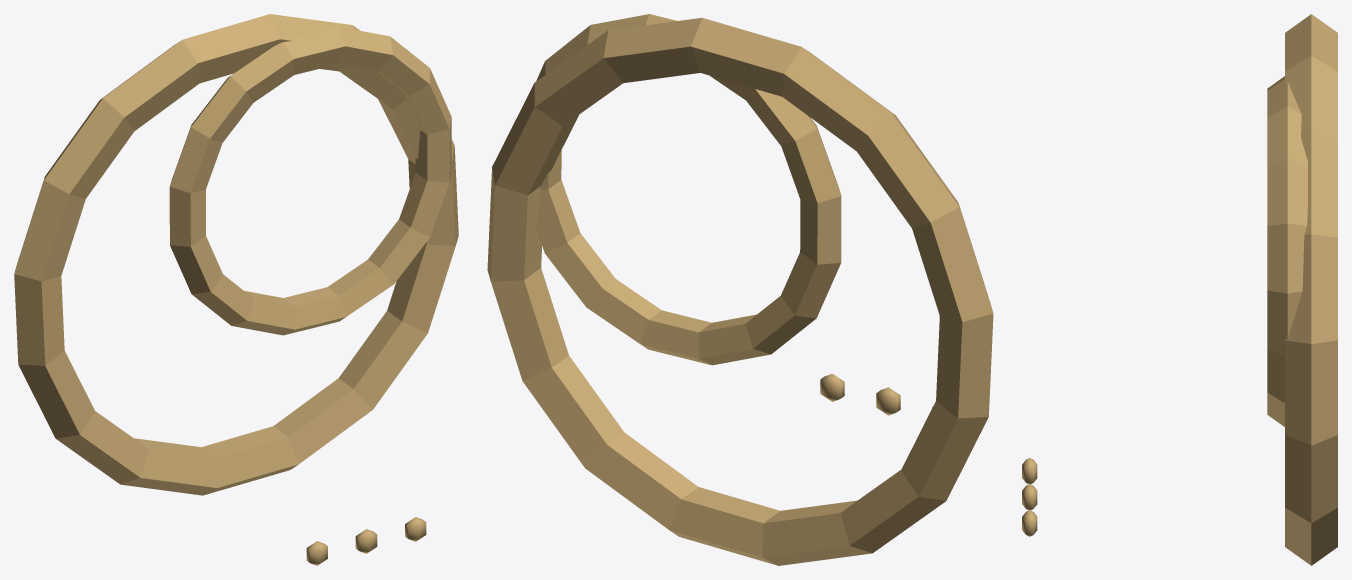
The picture shows the model from 3 angles, left to right: view 1: azimuth 30°, elevation 25°; view 2: azimuth 150°, elevation 25°; view 3: azimuth 270°, elevation 25°; orthographic projection. The views are drawn at different scales.
Parts seen in each view (by area): view 1: g_s02; view 2: g_s02; view 3: g_s02.
Boxes of the visible parts, x1,y1,x2,y2 form: g_s02: [14, 14, 458, 565]; g_s02: [487, 14, 993, 565]; g_s02: [1022, 14, 1337, 565].
Bounding box in the file's own units: 0.3159 × 0.3159 × 0.1793.
